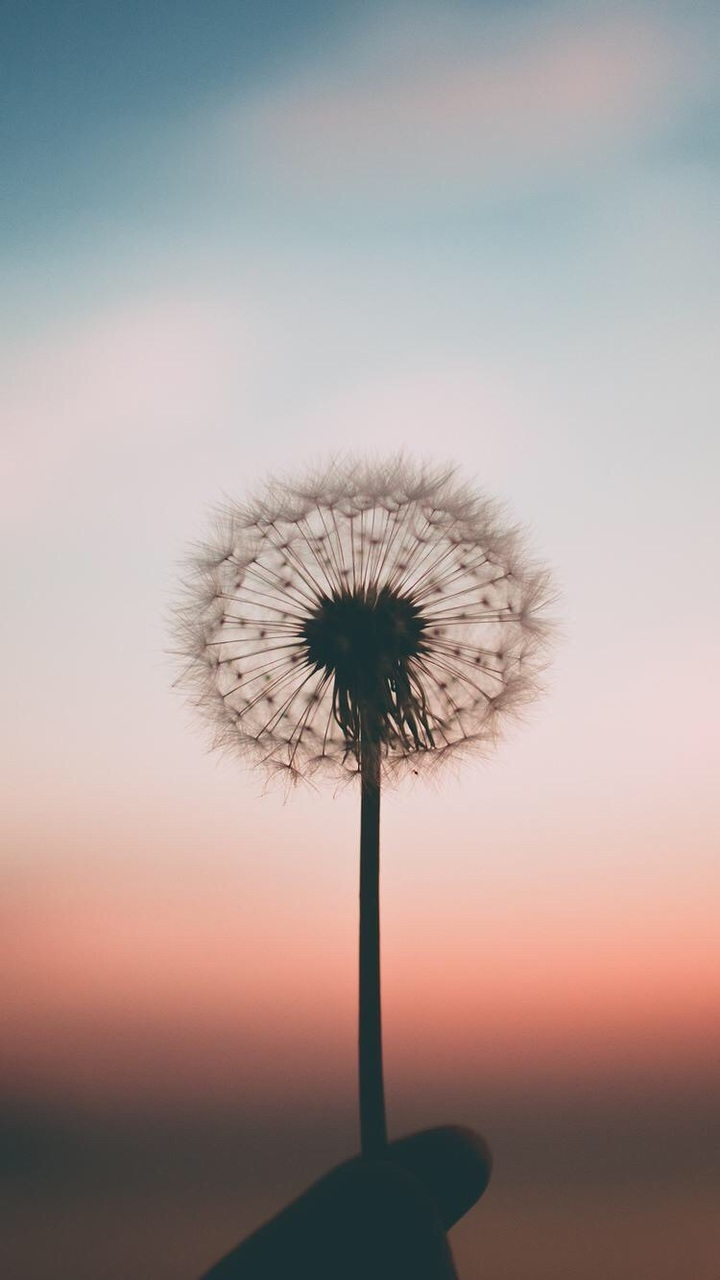copdegil: (160, 365, 486, 1178)
